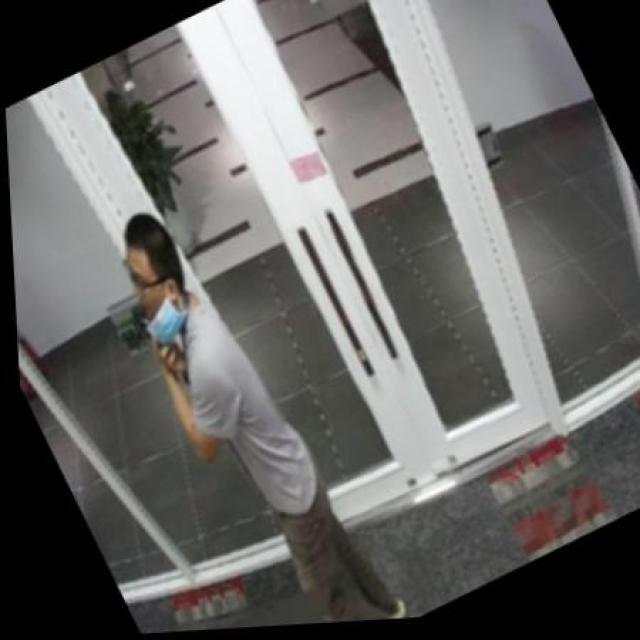hairnet: (114, 256, 190, 351)
